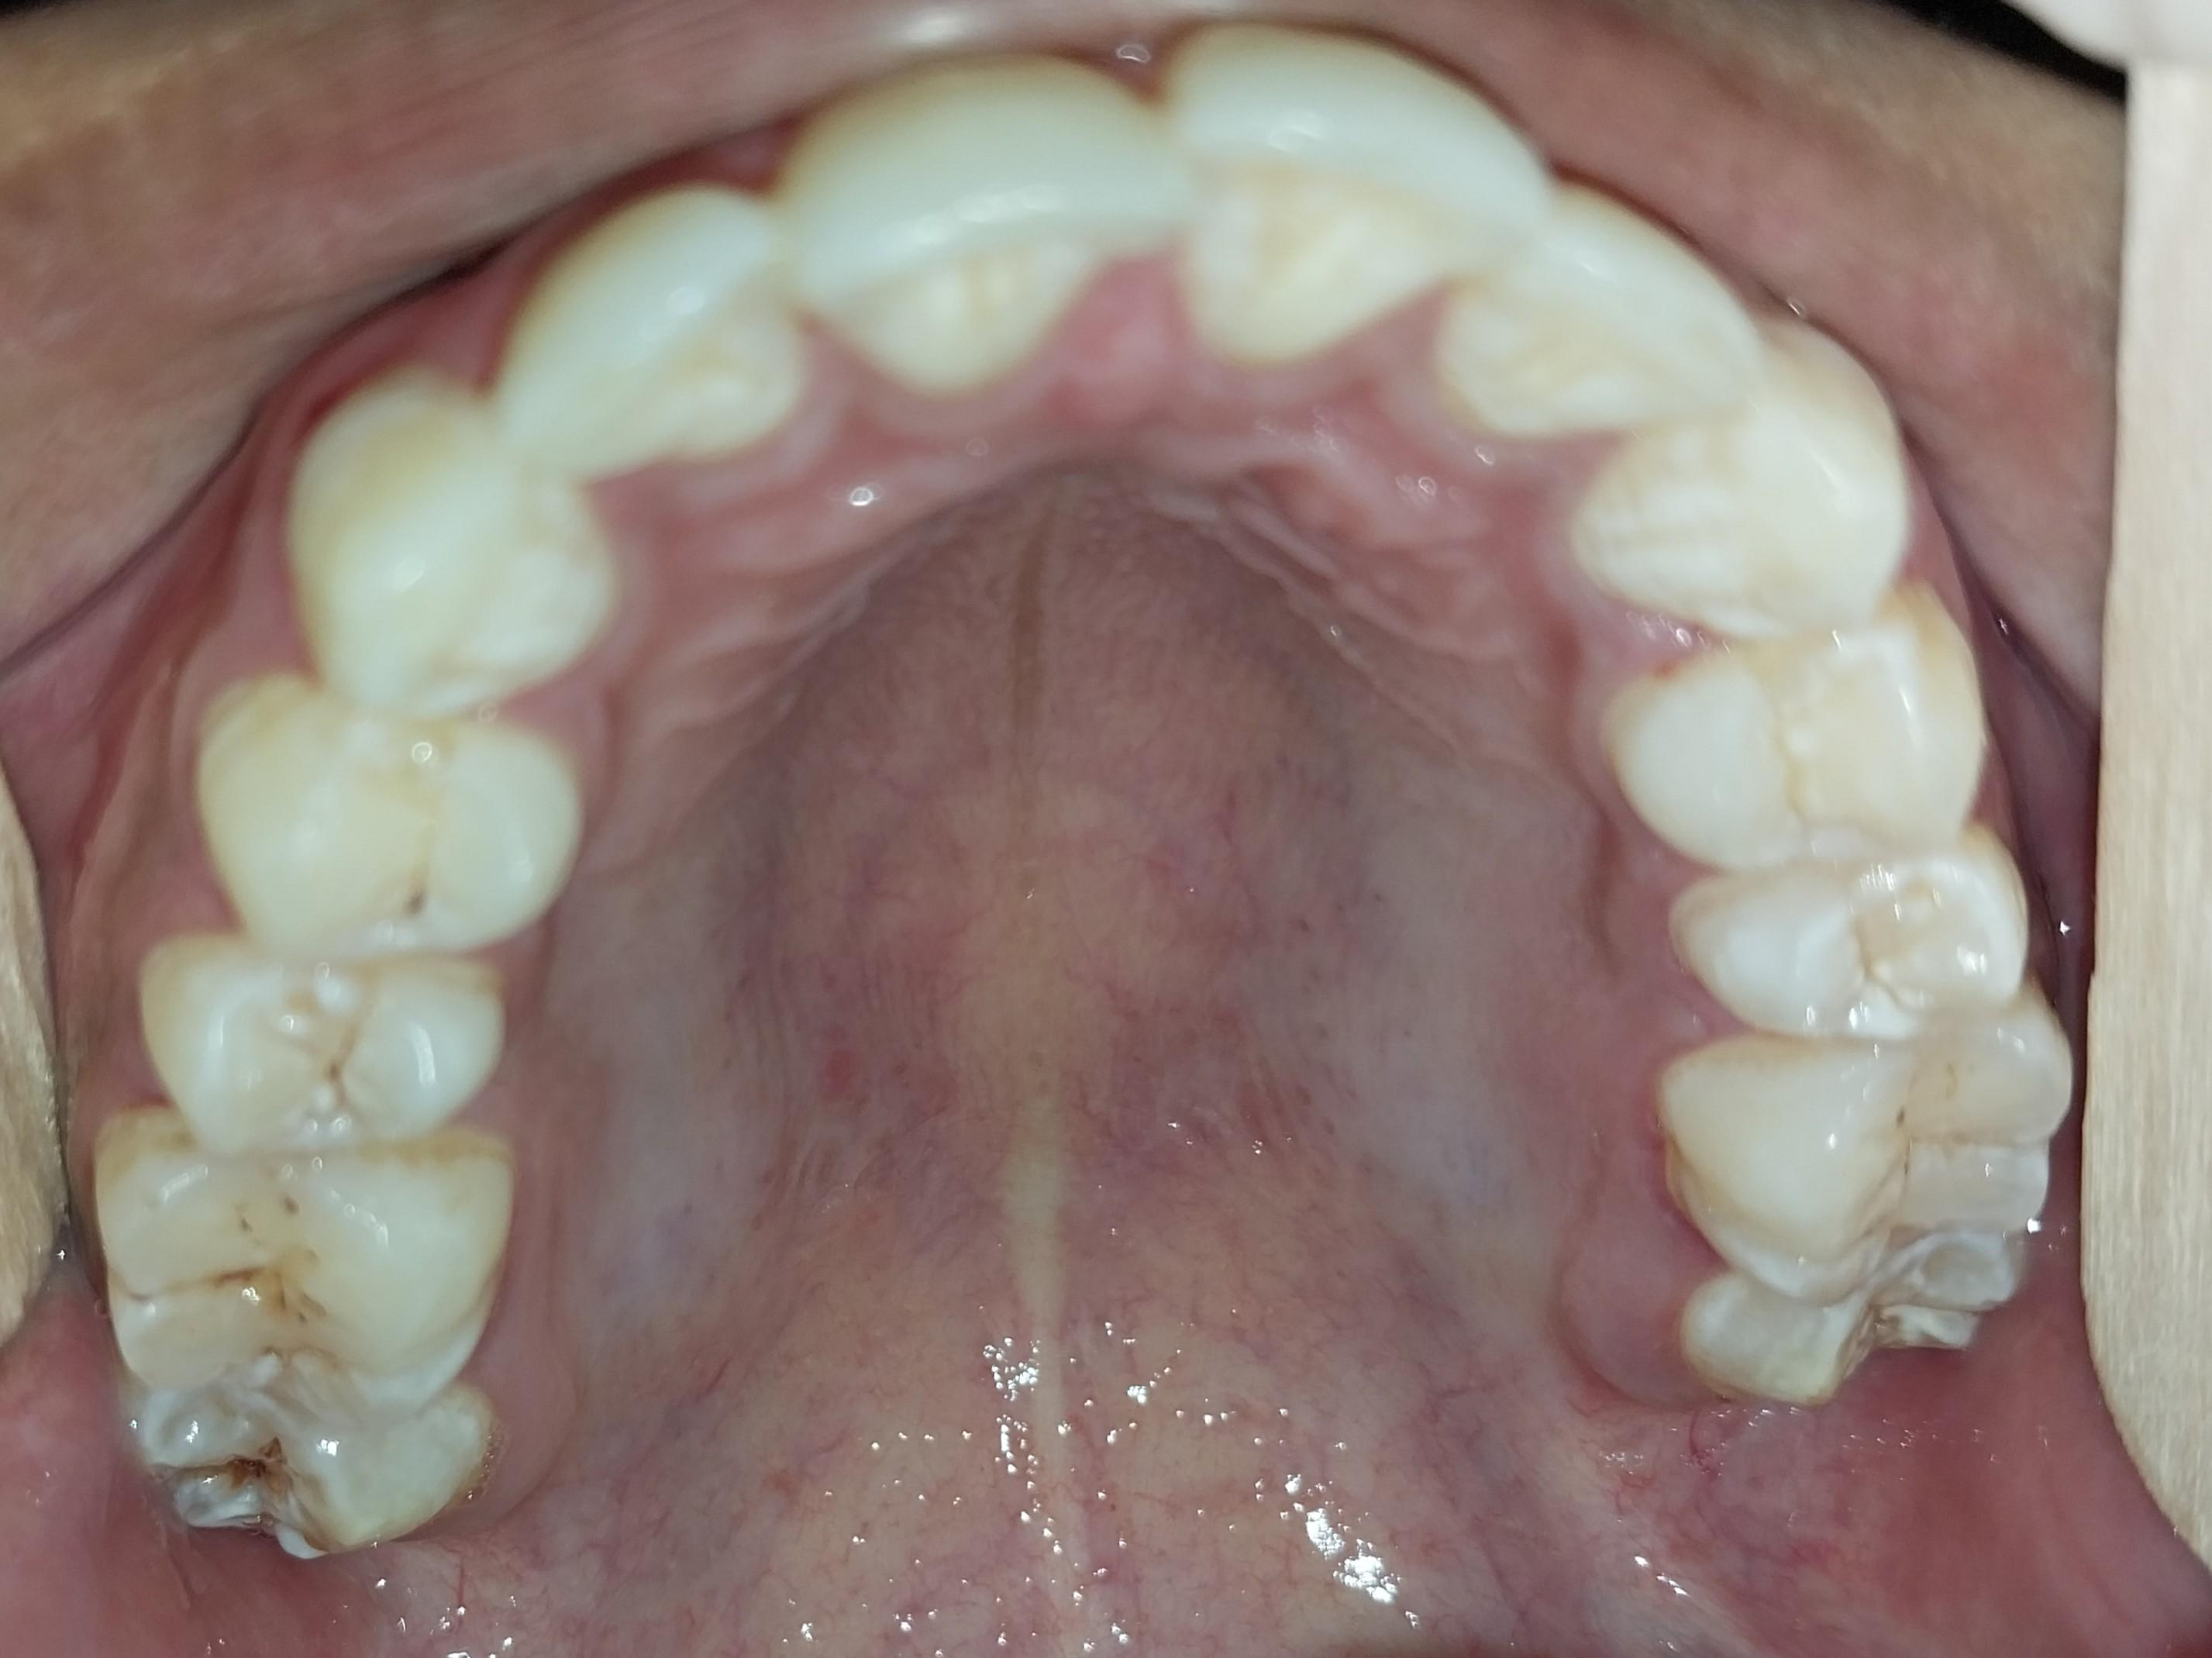D: (133, 1379, 475, 1551)
